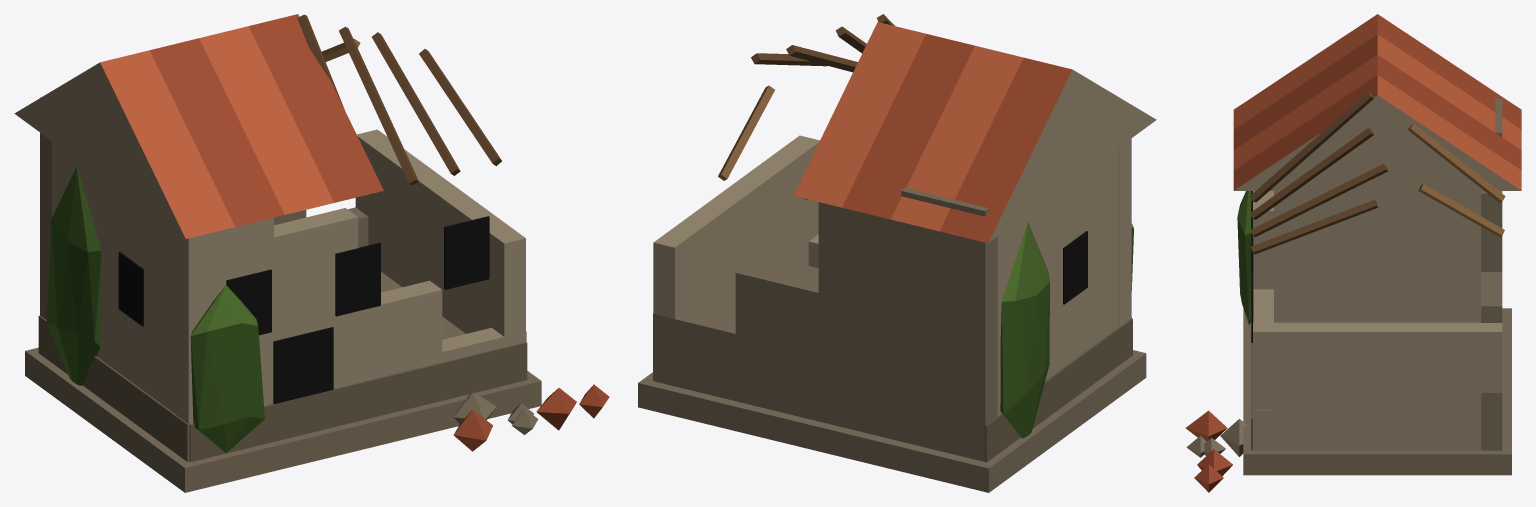
File: house_ruin_loire.glb
The picture shows the model from 3 angles, left to right: view 1: azimuth 30°, elevation 25°; view 2: azimuth 150°, elevation 25°; view 3: azimuth 270°, elevation 25°; orthographic projection. The views are drawn at different scales.
Visible parts, largest first — view 1: house_ruin_loire2; view 2: house_ruin_loire2; view 3: house_ruin_loire2.
Part boxes in pixels (x1,y1,x2,y2): house_ruin_loire2: (14, 14, 609, 492); house_ruin_loire2: (638, 14, 1156, 492); house_ruin_loire2: (1185, 14, 1521, 492).
Bounding box in the file's own units: 4.13 × 3.76 × 3.5.
